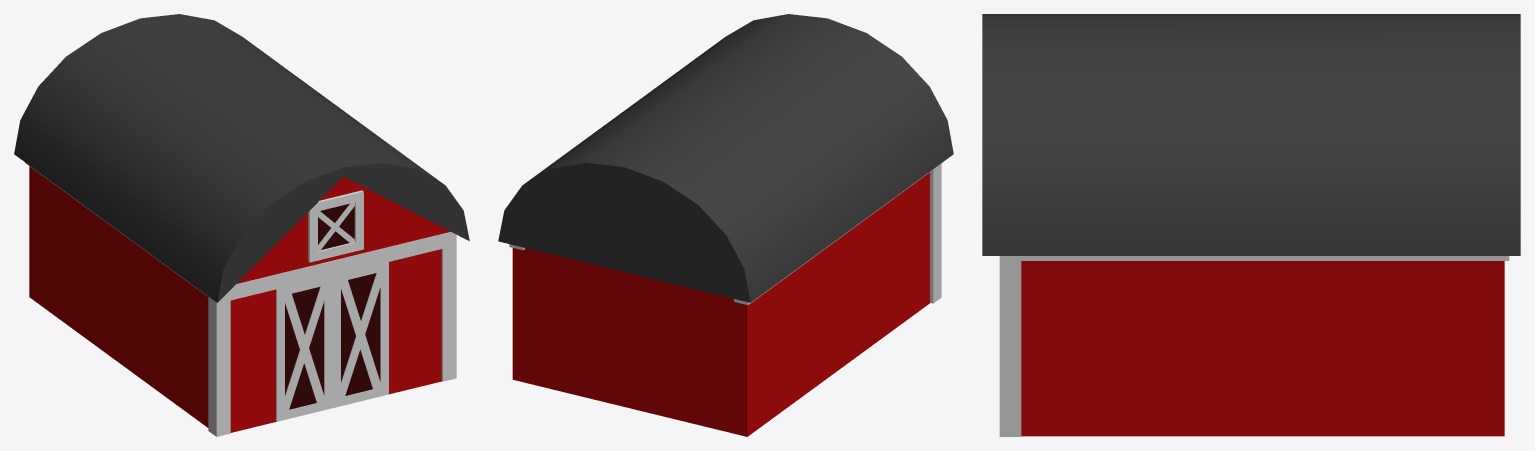
File: Barn.fbx
3 renders of one model, left to right at view 1: azimuth 30°, elevation 25°; view 2: azimuth 150°, elevation 25°; view 3: azimuth 270°, elevation 25°, orthographic. The views are drawn at different scales.
Visible parts, largest first — view 1: pCylinder3, pCube1, pCylinder2, pCube4, pCube2, pCube17, pCube7, pCube3, pCube12, pCube5, pCube14, pCube6 (+9 smaller); view 2: pCylinder3, pCube1, pCube2; view 3: pCylinder3, pCube1, pCube3, pCube27.
Boxes of the visible parts, x1,y1,x2,y2 form: pCylinder3: [14, 14, 469, 302]; pCube1: [29, 166, 441, 432]; pCylinder2: [237, 176, 450, 283]; pCube4: [225, 232, 451, 300]; pCube2: [208, 290, 230, 436]; pCube17: [341, 273, 380, 395]; pCube7: [285, 287, 323, 409]; pCube3: [441, 232, 456, 381]; pCube12: [337, 272, 382, 395]; pCube5: [276, 287, 284, 421]; pCube14: [335, 262, 388, 402]; pCube6: [324, 275, 332, 409]; pCylinder3: [498, 14, 953, 302]; pCube1: [512, 172, 929, 436]; pCube2: [930, 163, 941, 303]; pCylinder3: [982, 14, 1520, 255]; pCube1: [1021, 261, 1504, 436]; pCube3: [999, 256, 1021, 436]; pCube27: [1021, 256, 1509, 260].
Bounding box in the file's own units: 538 × 500 × 750.
